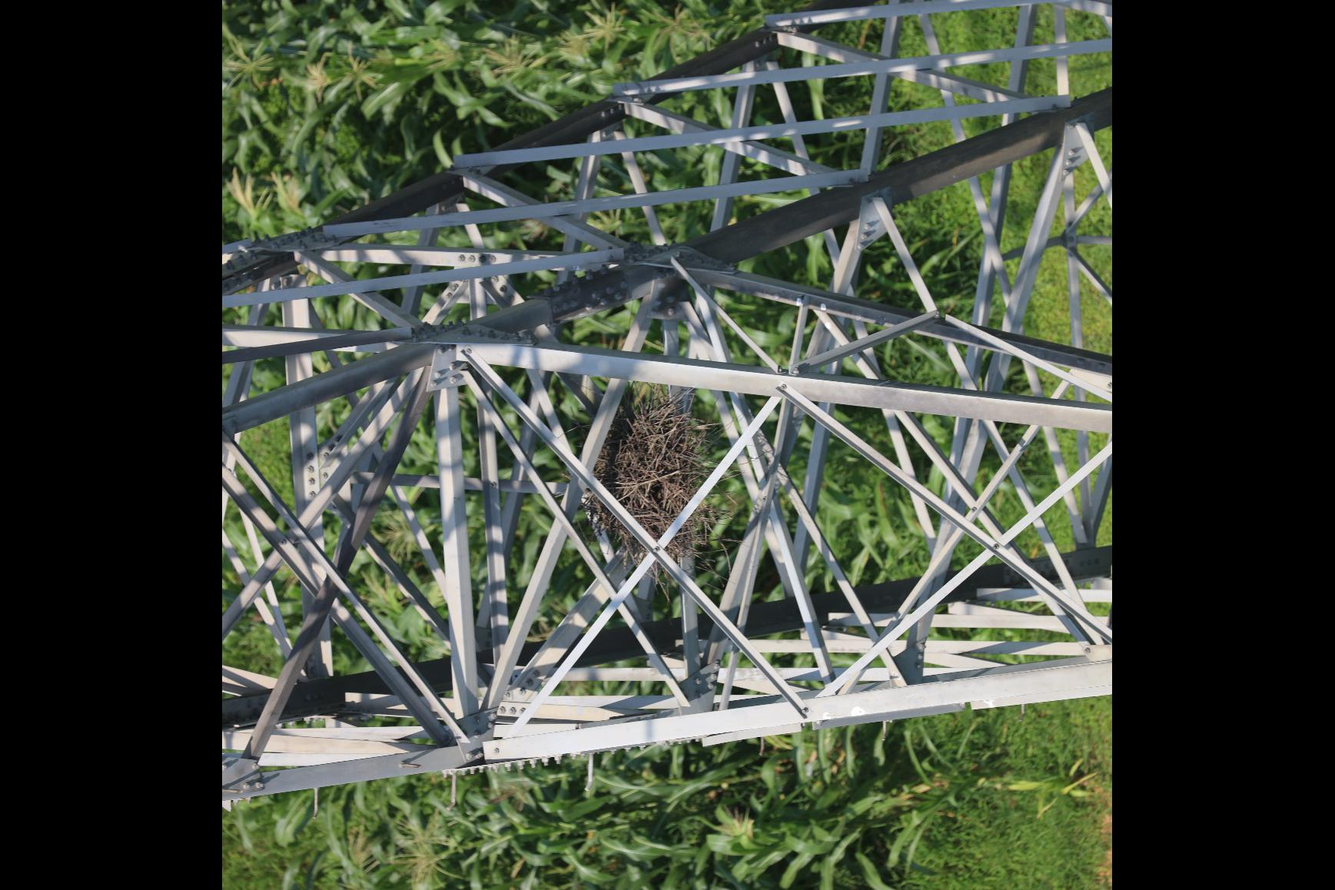nest: (579, 382, 723, 571)
